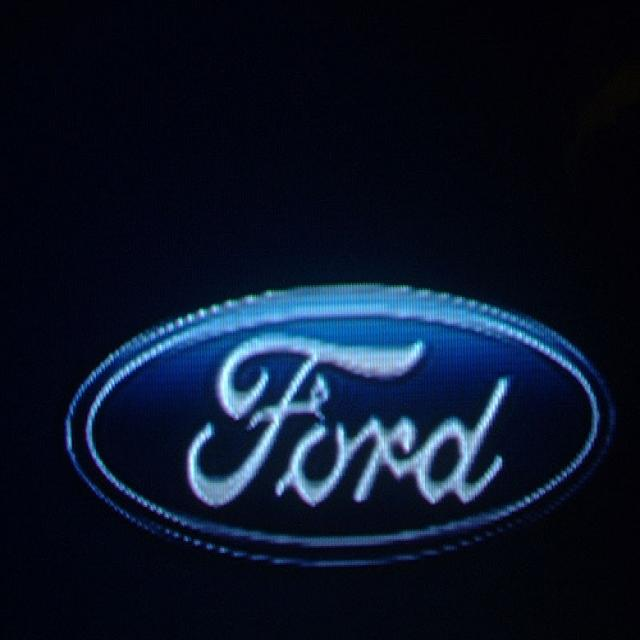ford: (51, 269, 617, 583)
